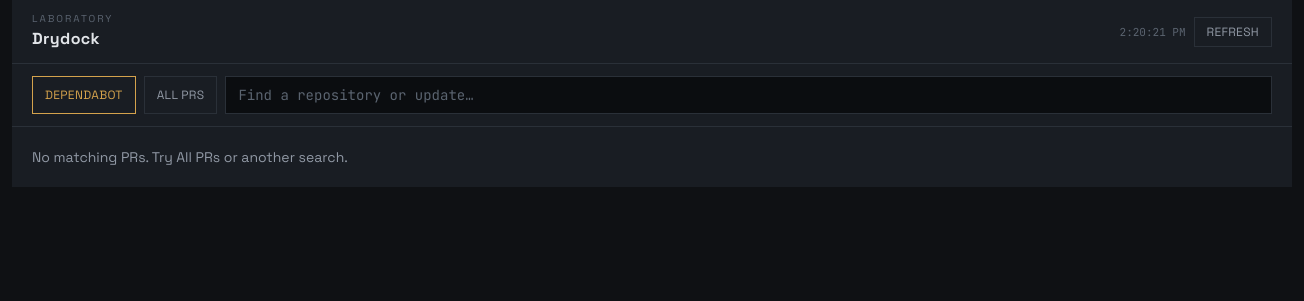
Test case: DrydockPanel › refreshes on open and renders the PR list
The width and height of the screenshot is (1304, 301).
Click the button "All PRs" at (181,95), box [144,76,217,114]
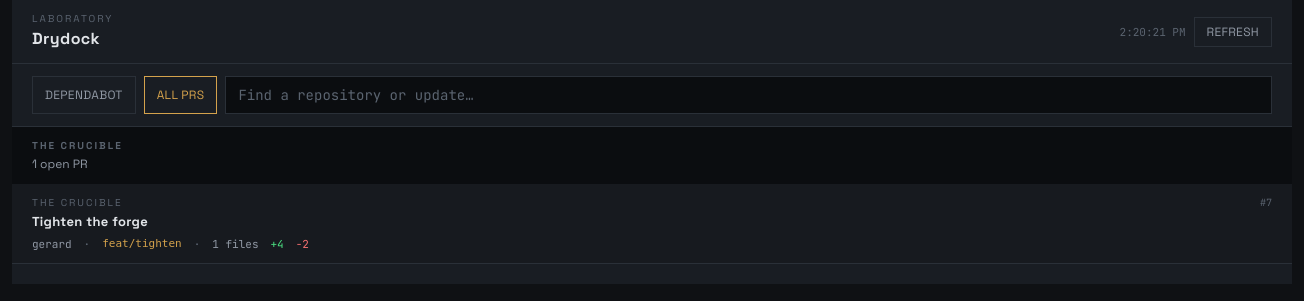
expect the text "Tighten the forge" is shown: met, box [32,213,148,230]
expect the text "The Crucible" is shown: met, box [32,139,123,152]
